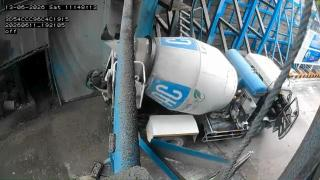cement_mixer_truck: (101, 29, 299, 146)
swing_chute: (106, 0, 136, 36)
